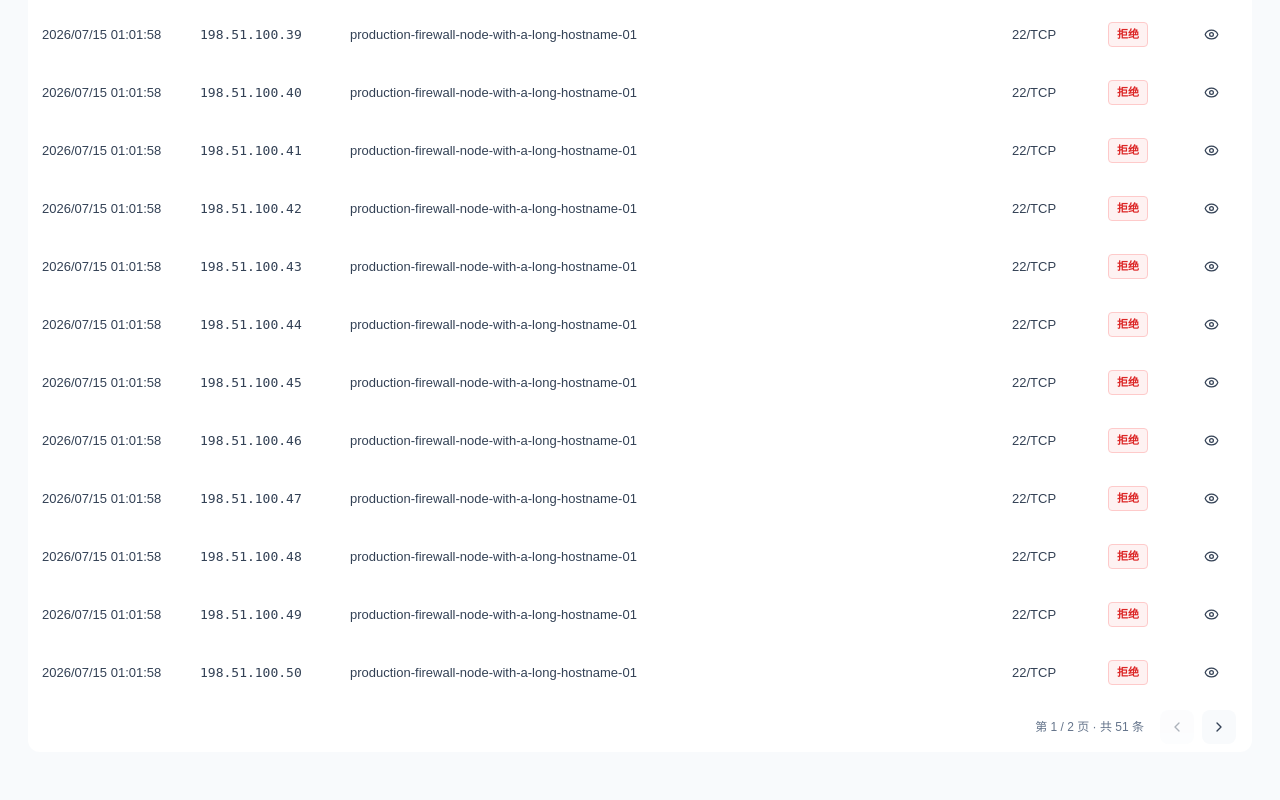
Test: firewall Agent deny page › paginates large real result sets
(page scrolled)
expect the text "第 1 / 2 页 · 共 51 条" is shown: met, box [1035,718,1144,736]
Step 1. Click the button named "下一页" → (1219, 726), box [1202,710,1236,744]
(page scrolled)
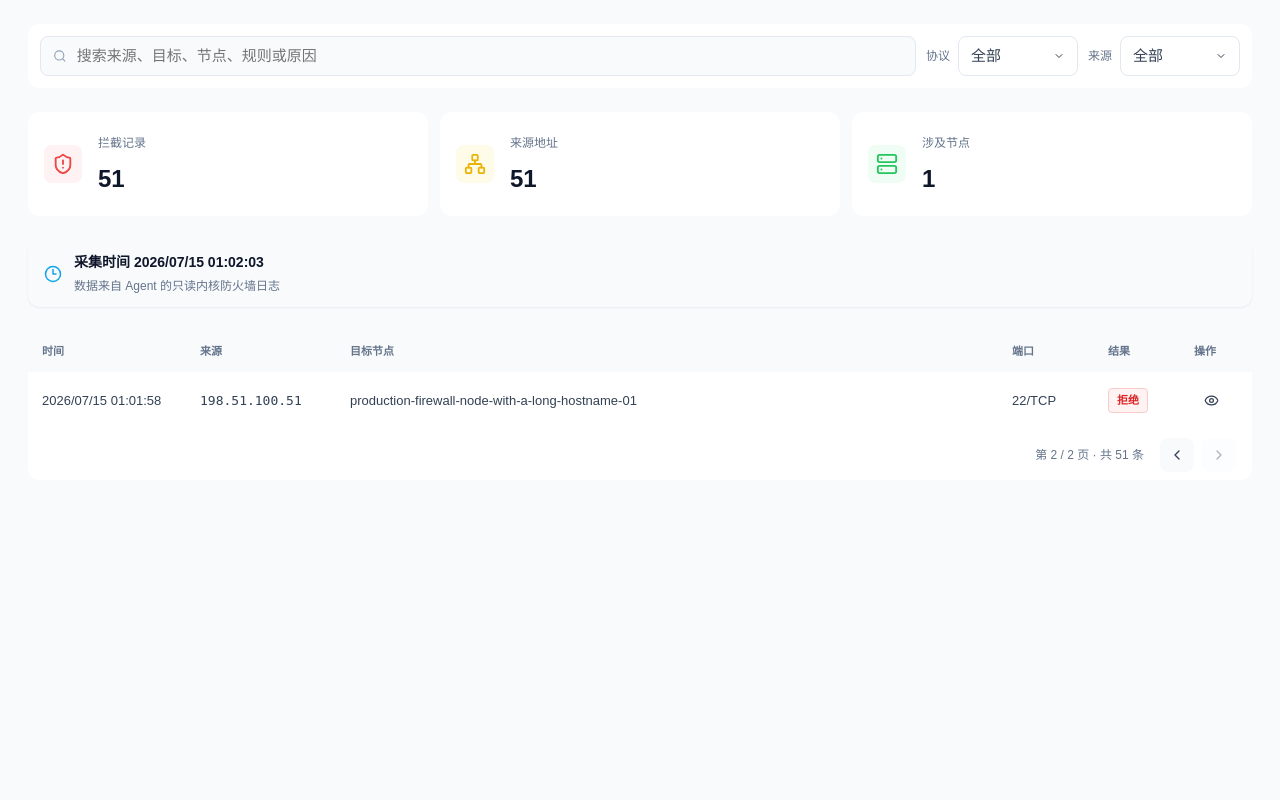
expect the text "198.51.100.51" is shown: met, box [200,393,302,408]
